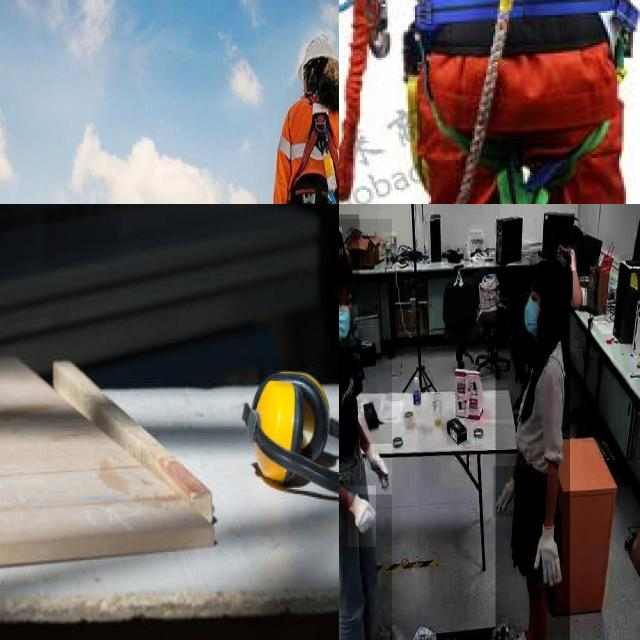Ear-protection: (238, 359, 339, 523)
Harness: (281, 93, 339, 204)
face_mask: (520, 292, 545, 341), (339, 305, 357, 346), (339, 240, 345, 263)
hand_glove: (532, 518, 560, 588), (348, 486, 376, 548), (360, 444, 392, 494), (493, 466, 518, 518)
hand_noglove: (568, 245, 578, 271)
head_nohelmet: (530, 256, 570, 280), (339, 253, 350, 284), (557, 232, 573, 246), (339, 226, 342, 239)
person: (495, 251, 570, 640), (339, 218, 392, 640), (339, 214, 359, 285)
shoes: (358, 609, 391, 640)
